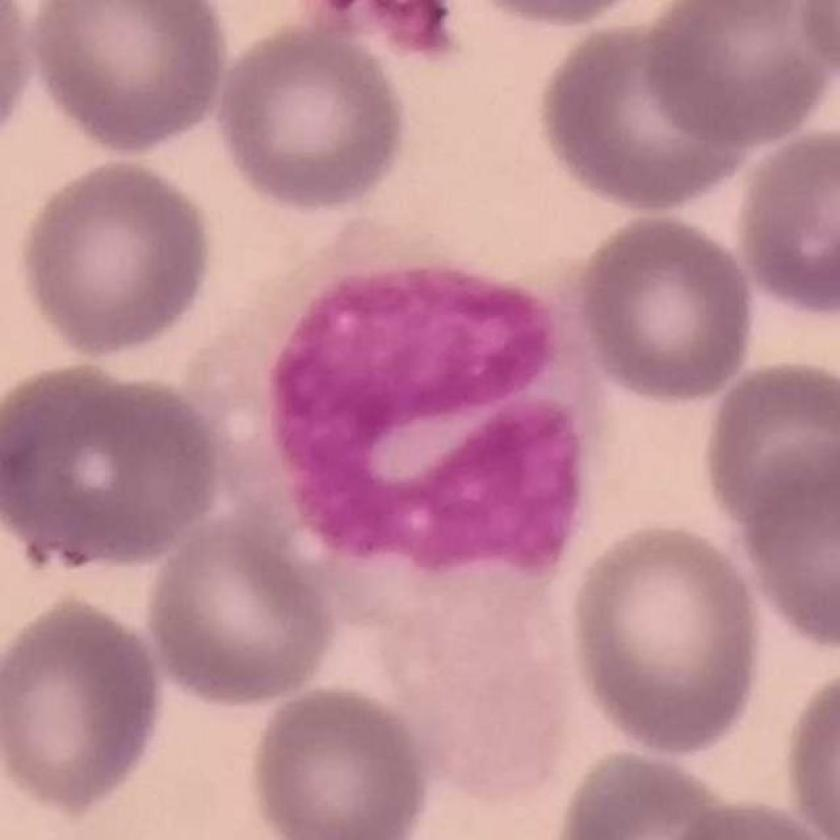monocyte: (187, 203, 626, 783)
